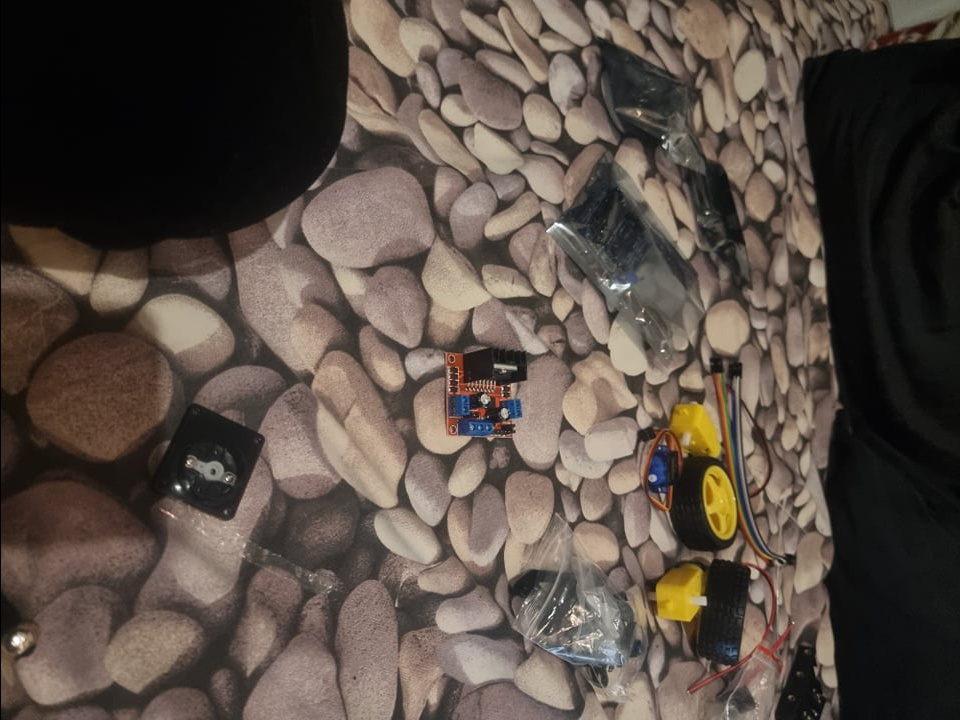BATTERY BOX: (775, 645, 830, 720)
MOTOR: (441, 342, 529, 437)
